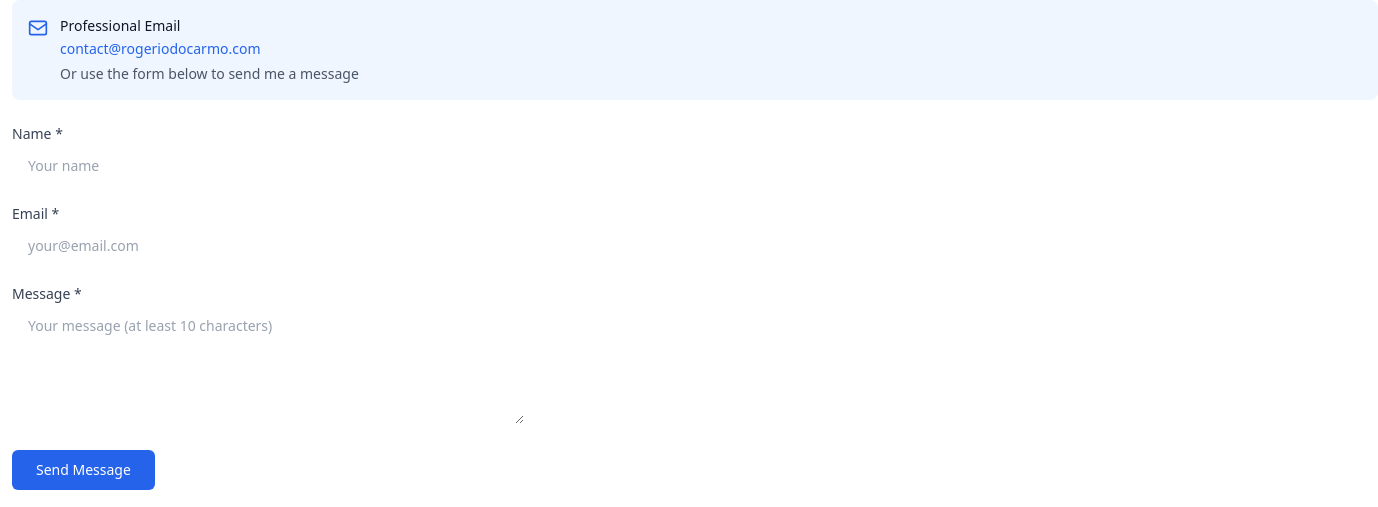
Test case: ContactForm Component › shows loading state while submitting
Type "John Doe" into the field labelled "Name *".
click(268, 166); type("John Doe")  # box [12, 148, 524, 184]
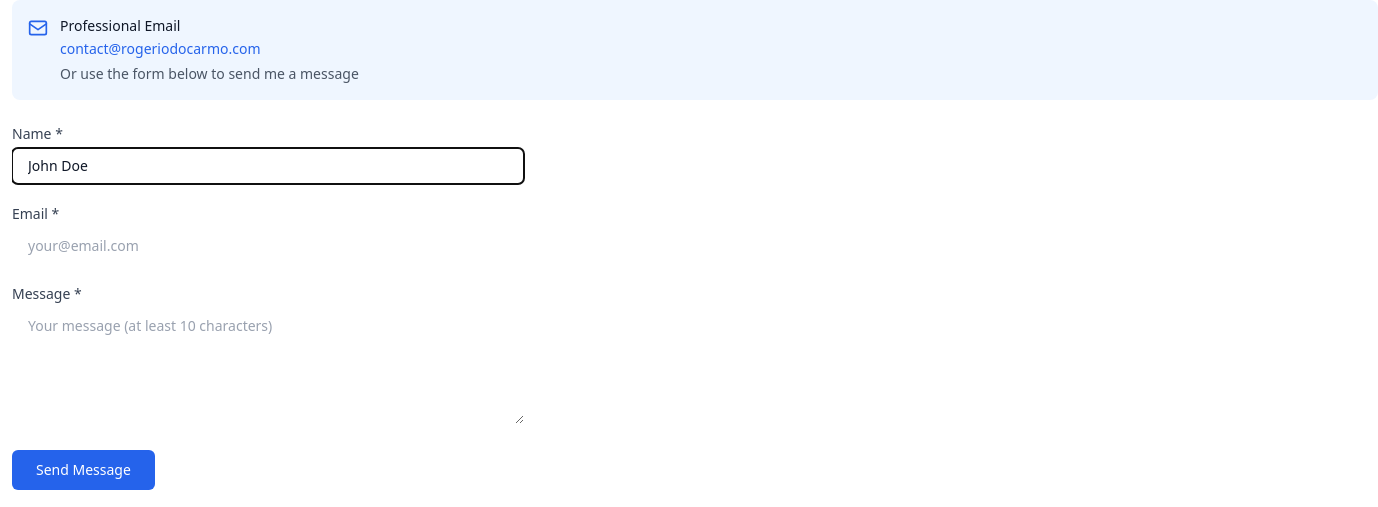
Type "john@example.com" into the field labelled "Email *".
click(268, 246); type("john@example.com")  # box [12, 228, 524, 264]
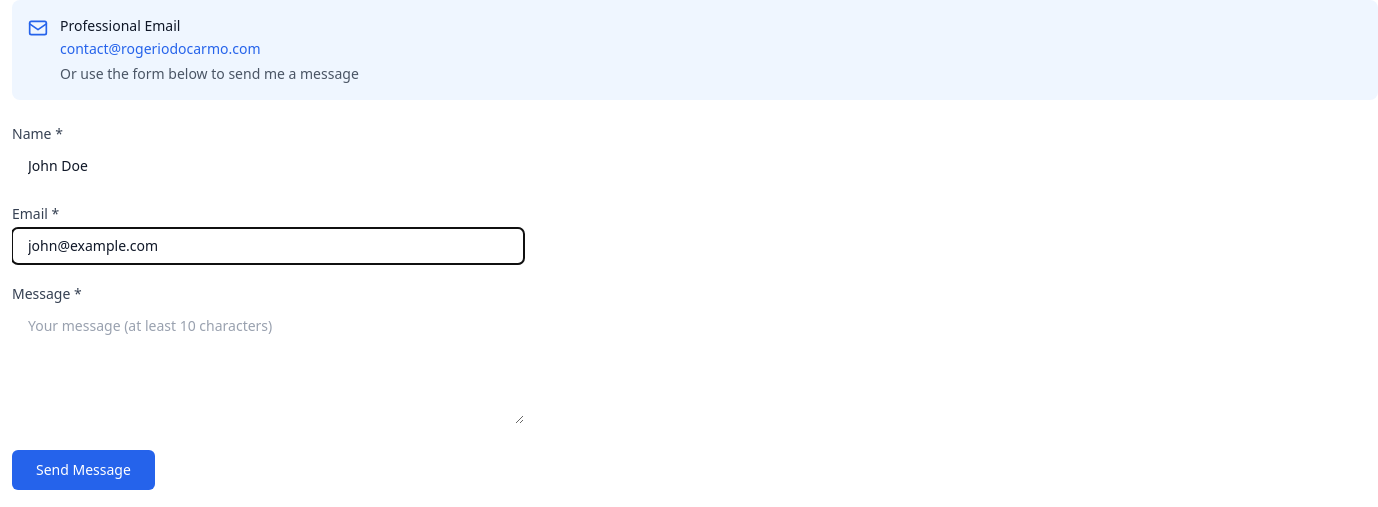
Type "This is a test message that is long enough." into the text box labelled "Message *".
click(268, 366); type("This is a test message that is long enough.")  # box [12, 308, 524, 424]
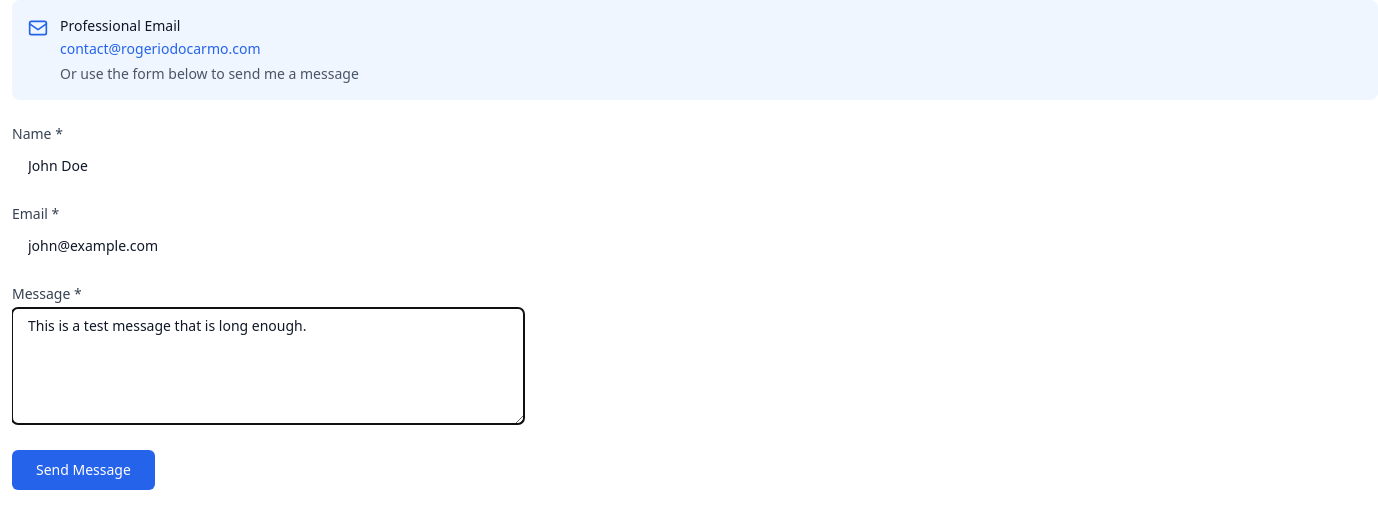
Click the button "Send Message".
click(83, 470)  # box [12, 450, 155, 490]
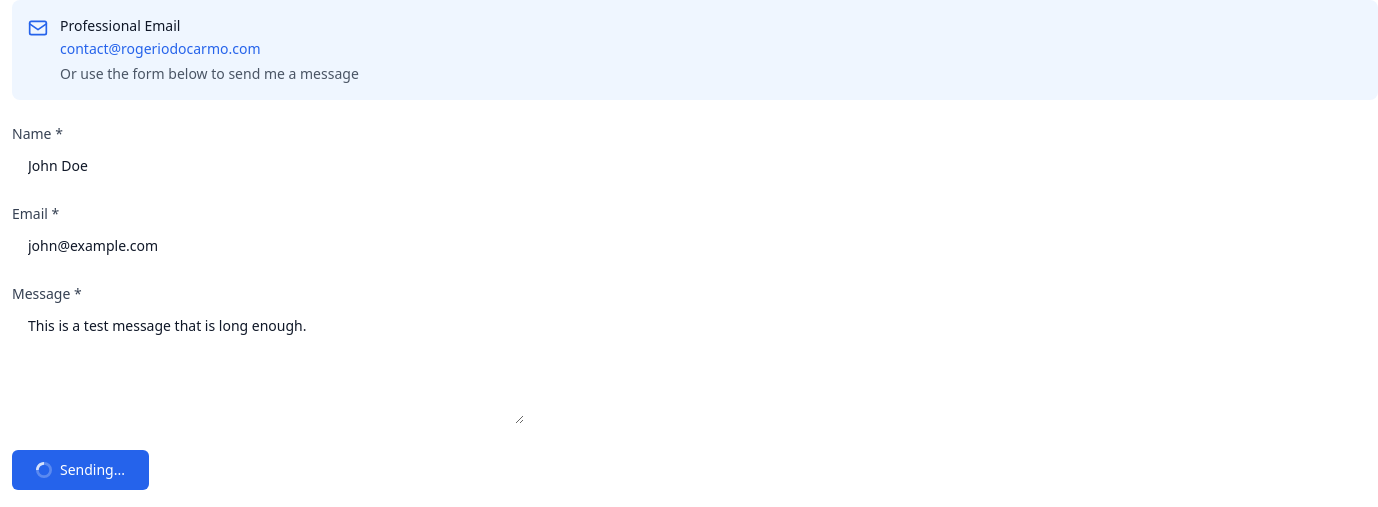
Expected: the button "Sending..." is shown, [12, 450, 149, 490]
